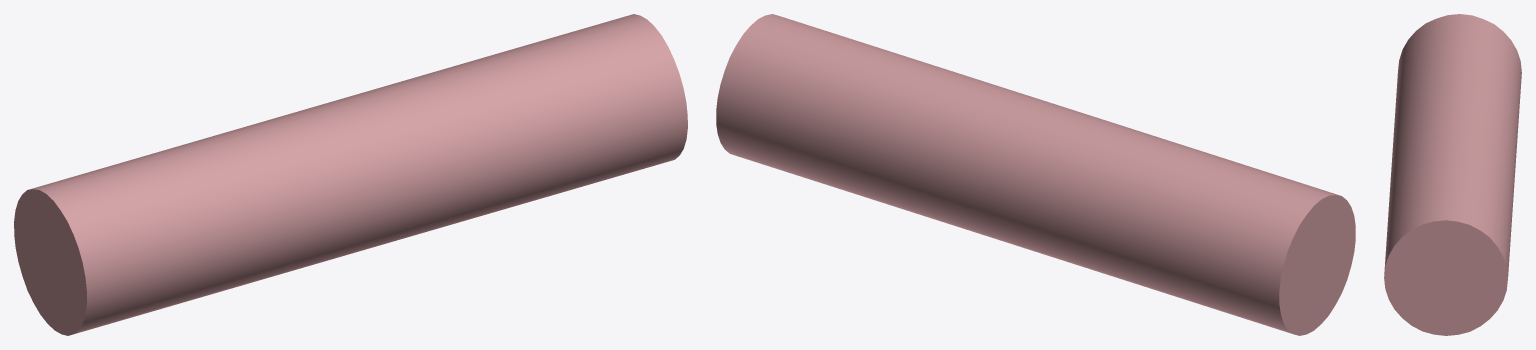
File: fma53136-l_mm2134.glb
3 renders of one model, left to right at view 1: azimuth 30°, elevation 25°; view 2: azimuth 150°, elevation 25°; view 3: azimuth 270°, elevation 25°, orthographic. The views are drawn at different scales.
Parts seen in each view (by area): view 1: FMA53136-L_MM2134; view 2: FMA53136-L_MM2134; view 3: FMA53136-L_MM2134.
Boxes of the visible parts, <box> form: FMA53136-L_MM2134: <box>14,14,687,335</box>; FMA53136-L_MM2134: <box>716,14,1355,335</box>; FMA53136-L_MM2134: <box>1384,14,1521,335</box>.
Bounding box in the file's own units: 0.00852 × 0.00236 × 0.00207.
